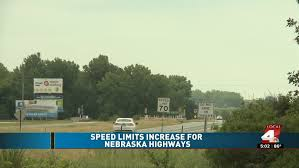speedLimit70: (159, 99, 170, 113)
